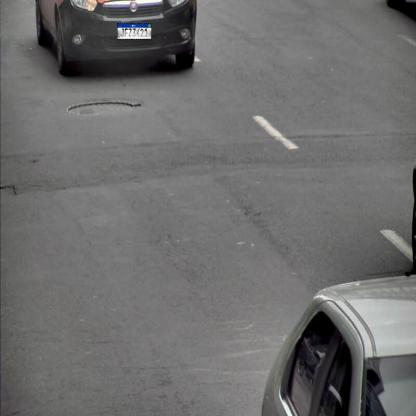PlacaM: (117, 23, 152, 39)
